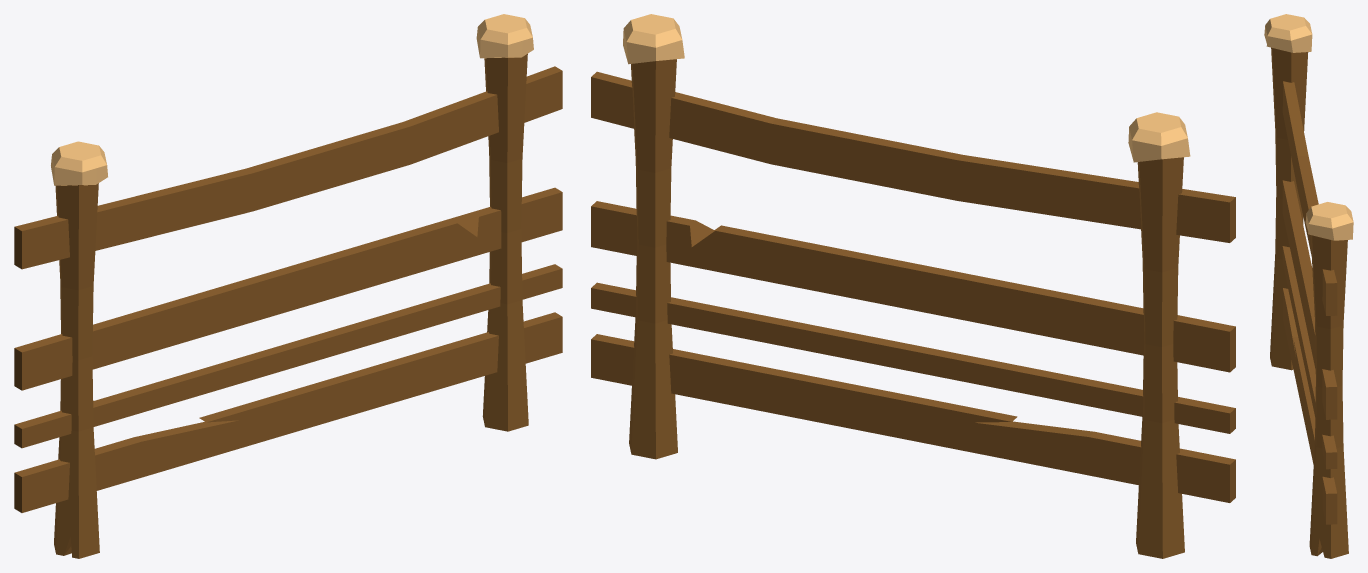
Rendered from fence.fbx.
3 renders of one model, left to right at view 1: azimuth 30°, elevation 25°; view 2: azimuth 150°, elevation 25°; view 3: azimuth 270°, elevation 25°, orthographic. The views are drawn at different scales.
Visible parts, largest first — view 1: fence; view 2: fence; view 3: fence.
Part boxes in pixels (x1,y1,x2,y2): fence: (14,14,562,558); fence: (591,14,1235,558); fence: (1264,14,1353,558).
Bounding box in the file's own units: 73.02 × 48.55 × 11.56.
Materials: 2 (1 with a texture image).
